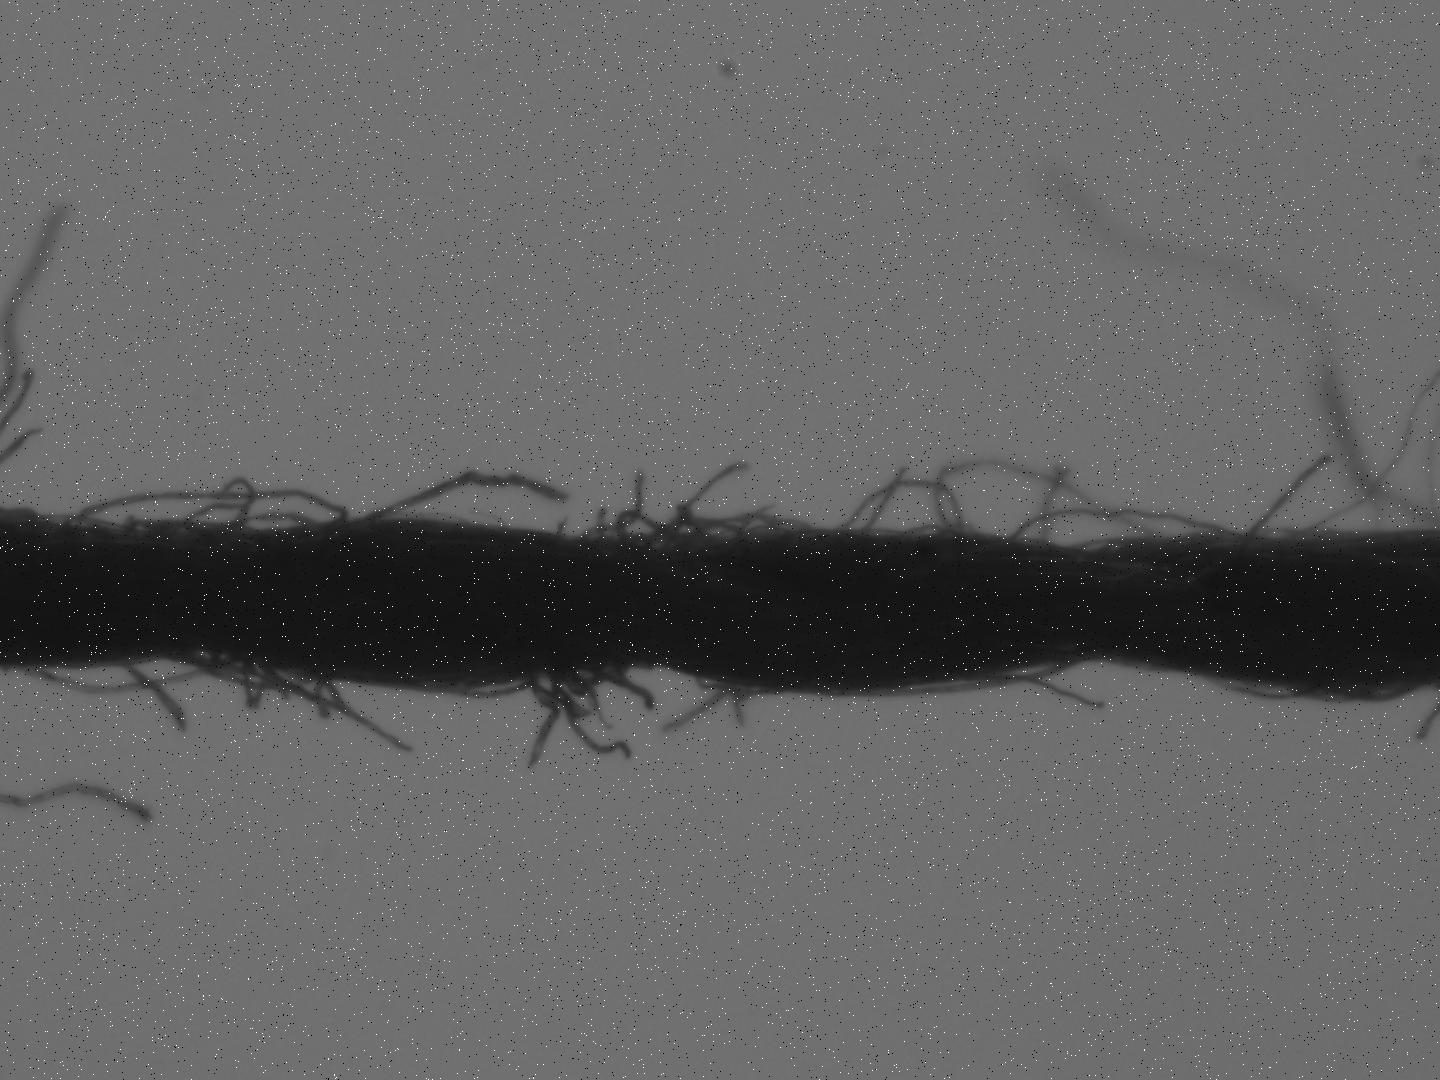loop_fiber: (62, 482, 344, 539), (1008, 509, 1252, 550), (836, 478, 963, 535), (169, 651, 303, 692), (558, 661, 657, 715), (644, 504, 746, 554), (1304, 683, 1418, 708), (1201, 677, 1315, 700), (219, 513, 320, 535), (616, 512, 668, 548)
protruding_fiber: (1244, 447, 1341, 545), (962, 675, 1102, 710), (117, 663, 185, 734)
